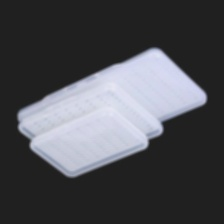plastic_box: (11, 43, 210, 181), (14, 78, 167, 151), (26, 103, 151, 181)
